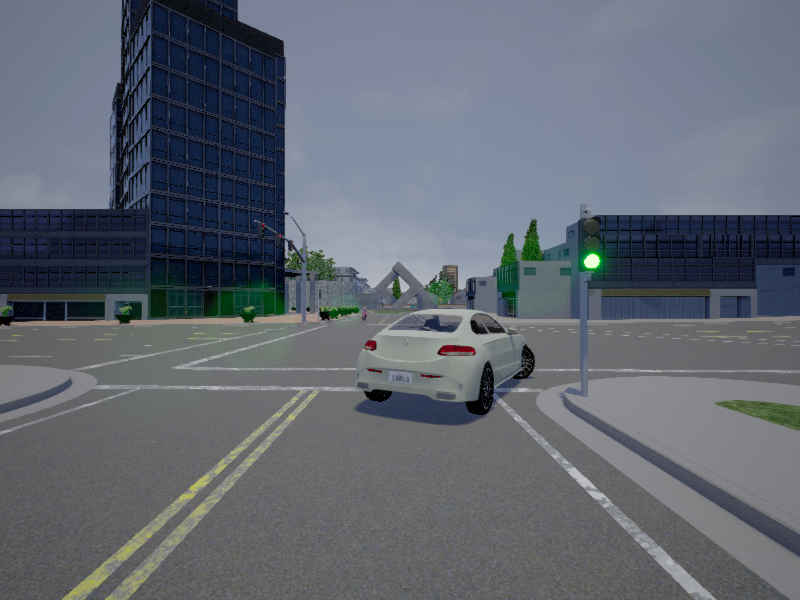Benign: (356, 308, 536, 418)
